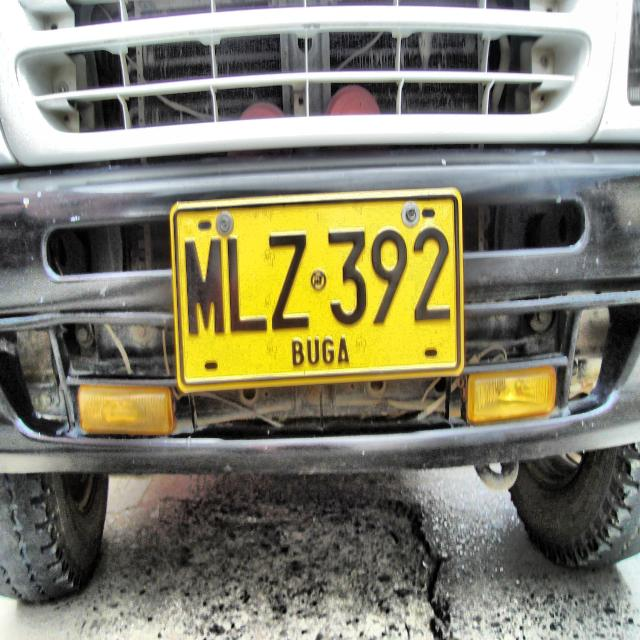plate: (172, 191, 463, 389)
